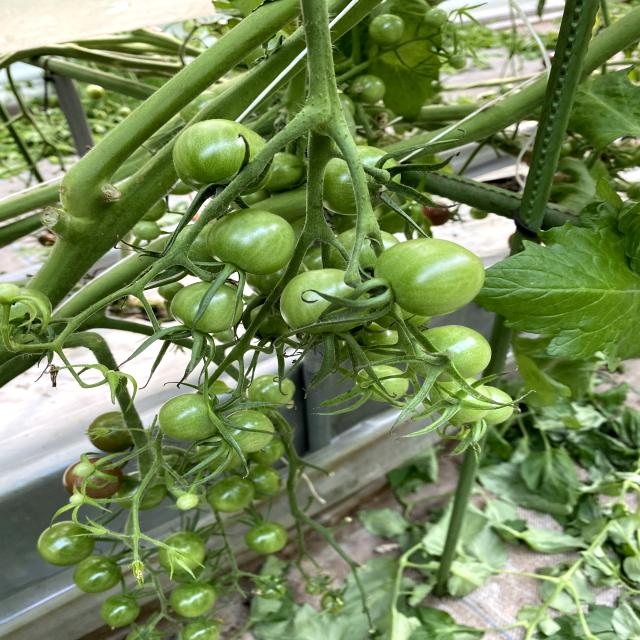ripe0: (374, 239, 485, 318), (206, 209, 297, 275), (281, 267, 367, 333), (173, 120, 260, 182), (413, 324, 492, 381), (170, 280, 244, 332), (158, 392, 219, 442), (36, 521, 96, 567), (224, 412, 274, 454), (245, 524, 291, 555), (250, 376, 294, 408), (100, 595, 144, 627)
